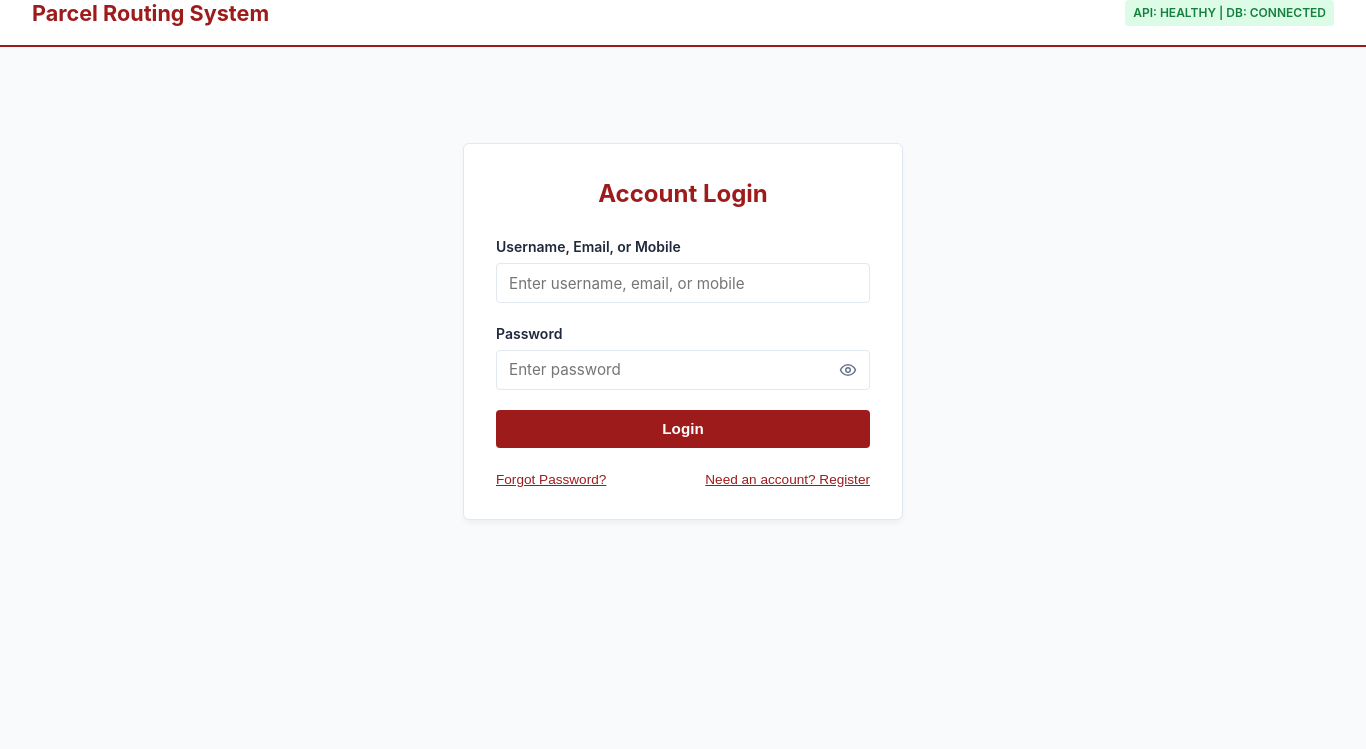
Test case: Frontend Auth Flow and UI Validation › navigates to register form and shows validation errors on missing input
Click the button "Need an account? Register" at (788, 479), box [705, 472, 870, 487]
(page scrolled)
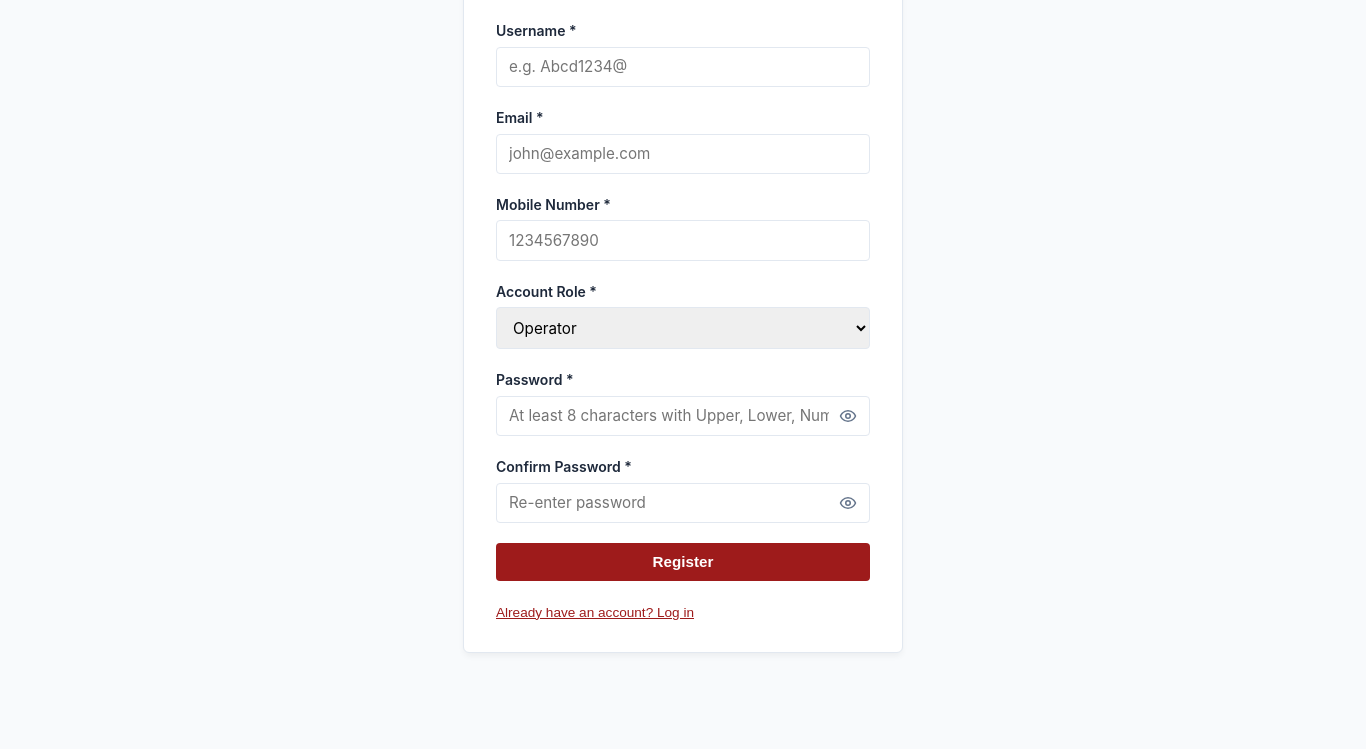
Click the button "Register" at (683, 562), box [496, 543, 870, 581]
(page scrolled)
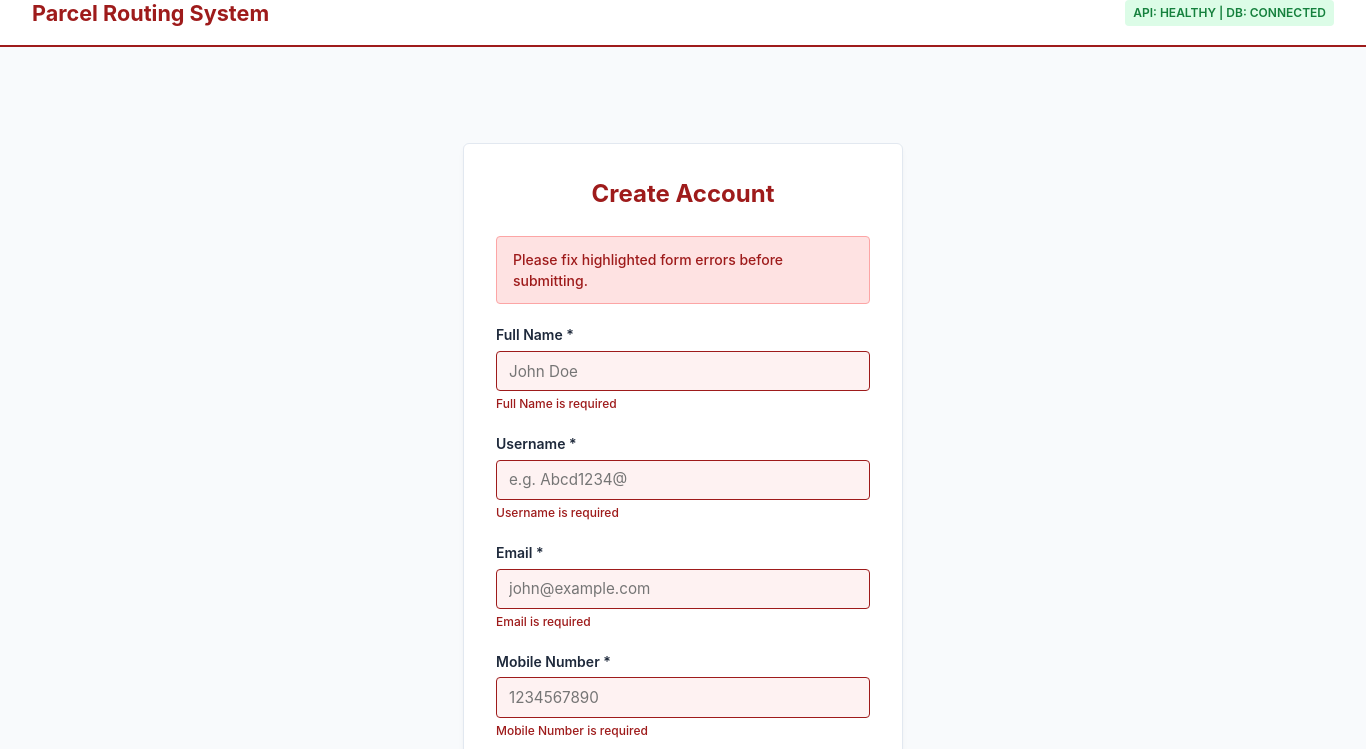
Check: the text "Please fix highlighted form errors before submitting." is shown, box [496, 236, 870, 304]
